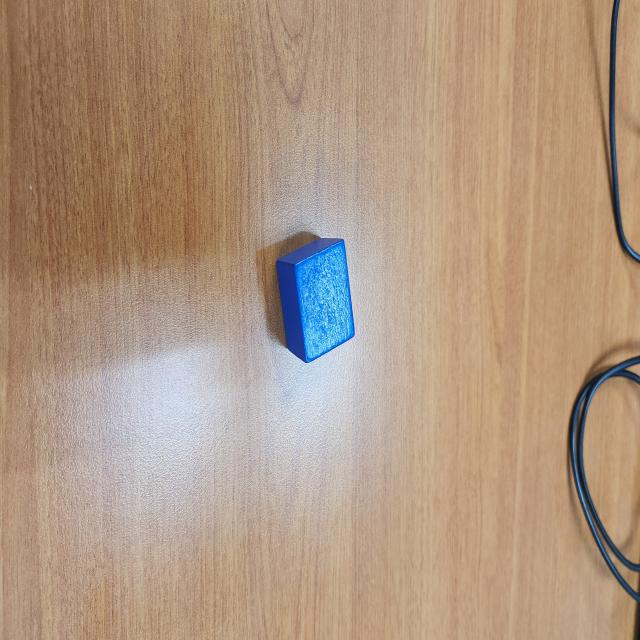blue: (276, 238, 356, 364)
